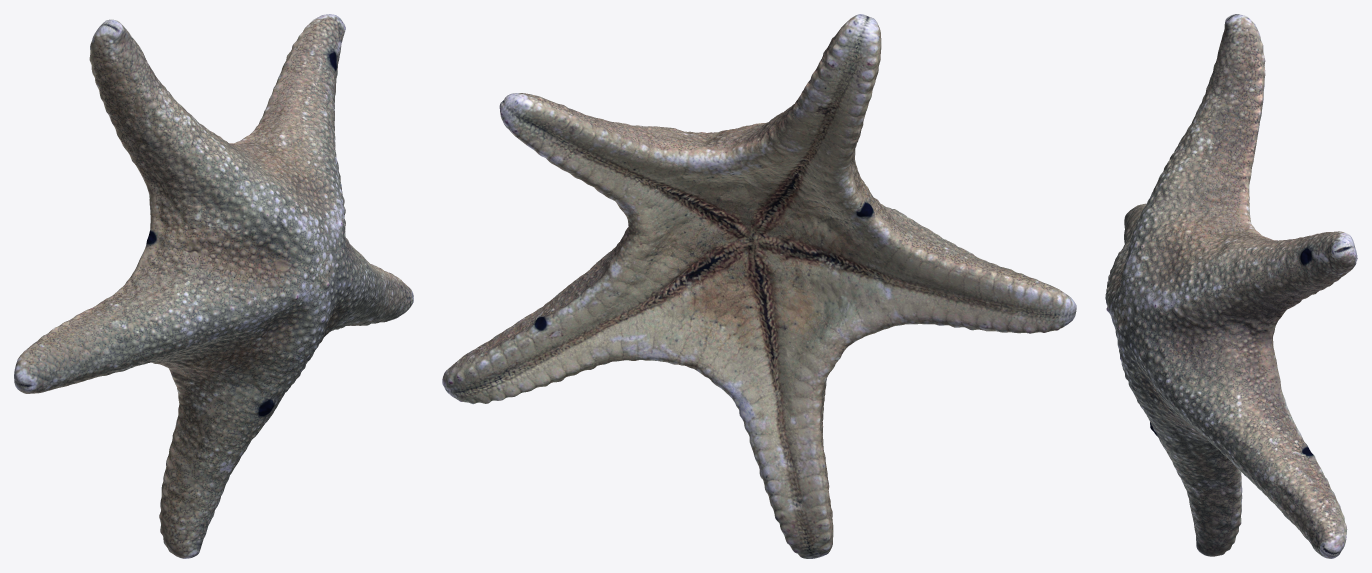
The model's file is MZUR3D-029.glb.
The picture shows the model from 3 angles, left to right: view 1: azimuth 30°, elevation 25°; view 2: azimuth 150°, elevation 25°; view 3: azimuth 270°, elevation 25°; orthographic projection. The views are drawn at different scales.
Visible parts, largest first — view 1: MZUR3D-029; view 2: MZUR3D-029; view 3: MZUR3D-029.
Boxes of the visible parts, left/top/right/bottom form: MZUR3D-029: left=14, top=14, right=413, bottom=558; MZUR3D-029: left=442, top=14, right=1076, bottom=558; MZUR3D-029: left=1105, top=14, right=1357, bottom=558.
Bounding box in the file's own units: 4.37 × 4.53 × 2.02.
1 material, 1 textured.
